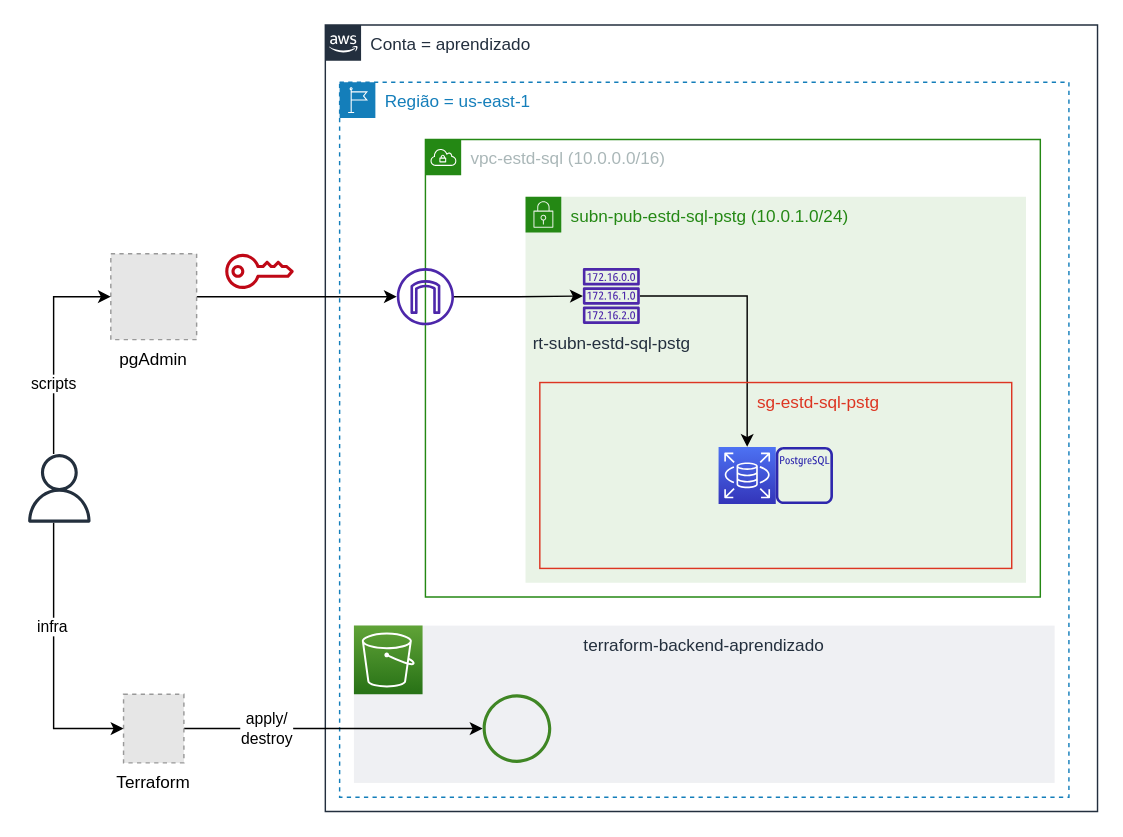
Some shapes in this 1123 by 837 pixel diagram are drawn without their labels. Grey dashed boxes stand in for pictures. The centre of each missing label's shape, as x and y in pixels:
"igw-vpc-estd-sql" goes at (424,296).
"rds-estd-sql-pstg" goes at (746,474).
"rds-estd-sql-pstg.tfstate" goes at (516,728).
"user" goes at (58,487).
"user + pass" goes at (259,270).
